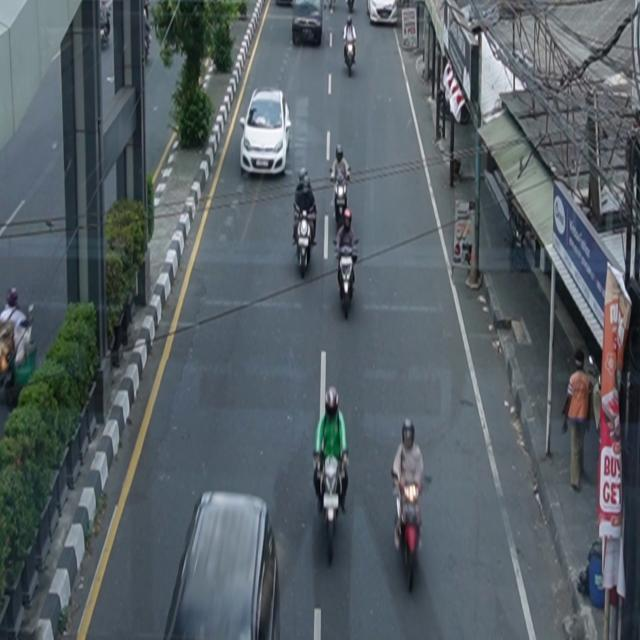car: (240, 88, 292, 177), (292, 1, 324, 47), (367, 1, 398, 26)
